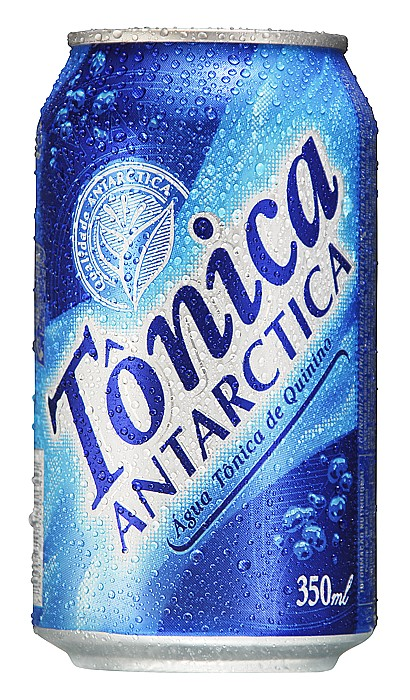tonica: (21, 31, 387, 673)
